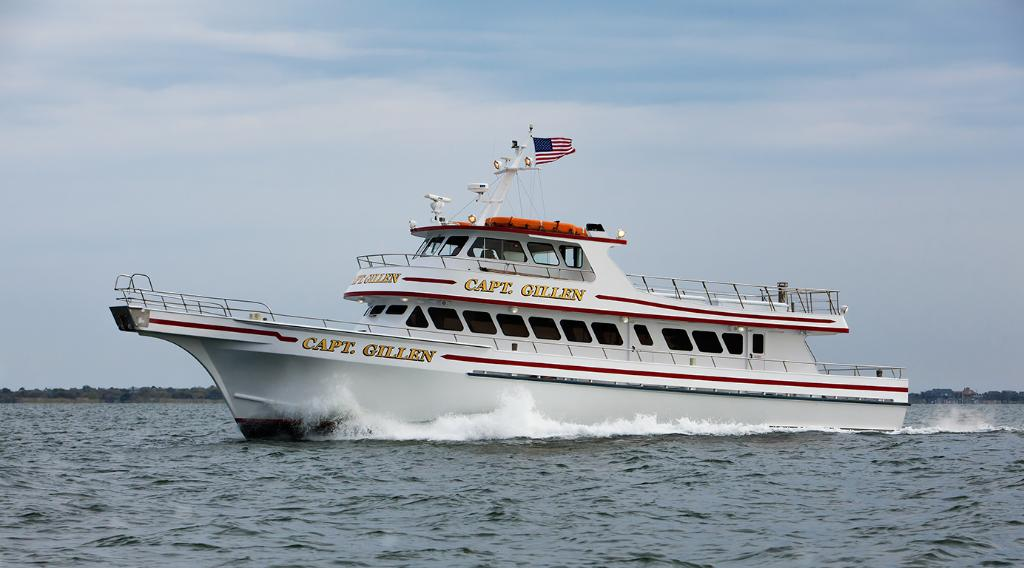PassengerShip: (89, 104, 925, 443)
